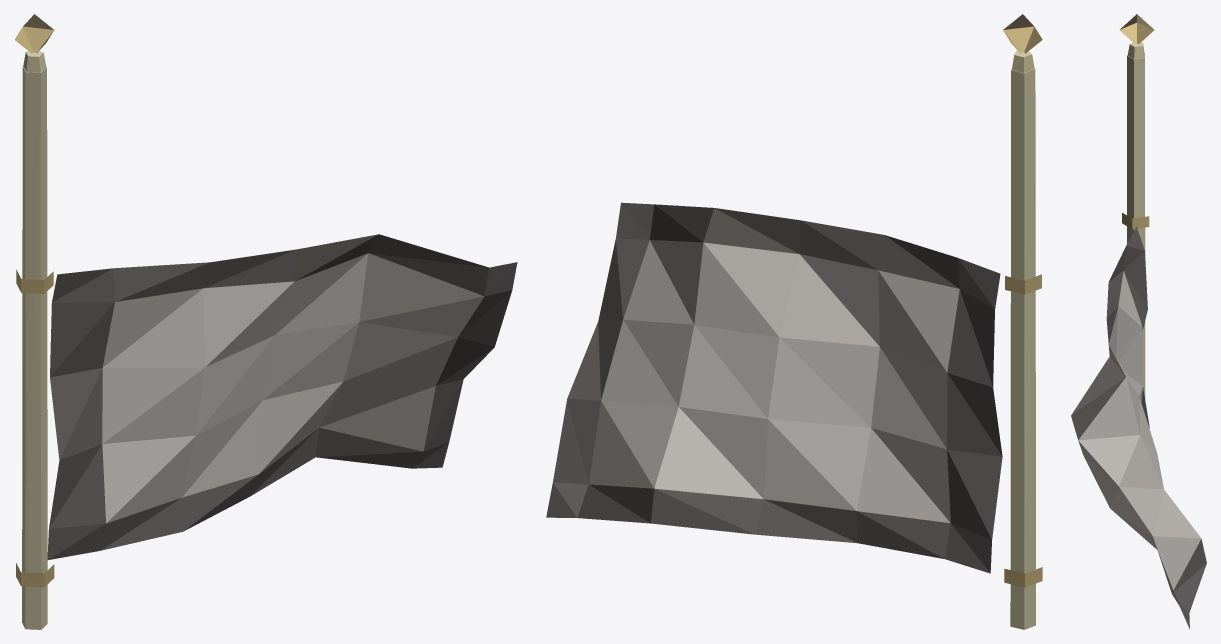
Rendered from flag.rect.suqi__pole.stick.mugun__midmast.glb.
The picture shows the model from 3 angles, left to right: view 1: azimuth 30°, elevation 25°; view 2: azimuth 150°, elevation 25°; view 3: azimuth 270°, elevation 25°; orthographic projection. The views are drawn at different scales.
Parts seen in each view (by area): view 1: flag.rect.suqi; view 2: flag.rect.suqi; view 3: flag.rect.suqi.
Boxes of the visible parts, <box> form: flag.rect.suqi: <box>14,14,517,629</box>; flag.rect.suqi: <box>546,14,1042,629</box>; flag.rect.suqi: <box>1071,14,1206,629</box>.
Size of the model in its own units: 1.65 by 2.08 by 0.5482.
